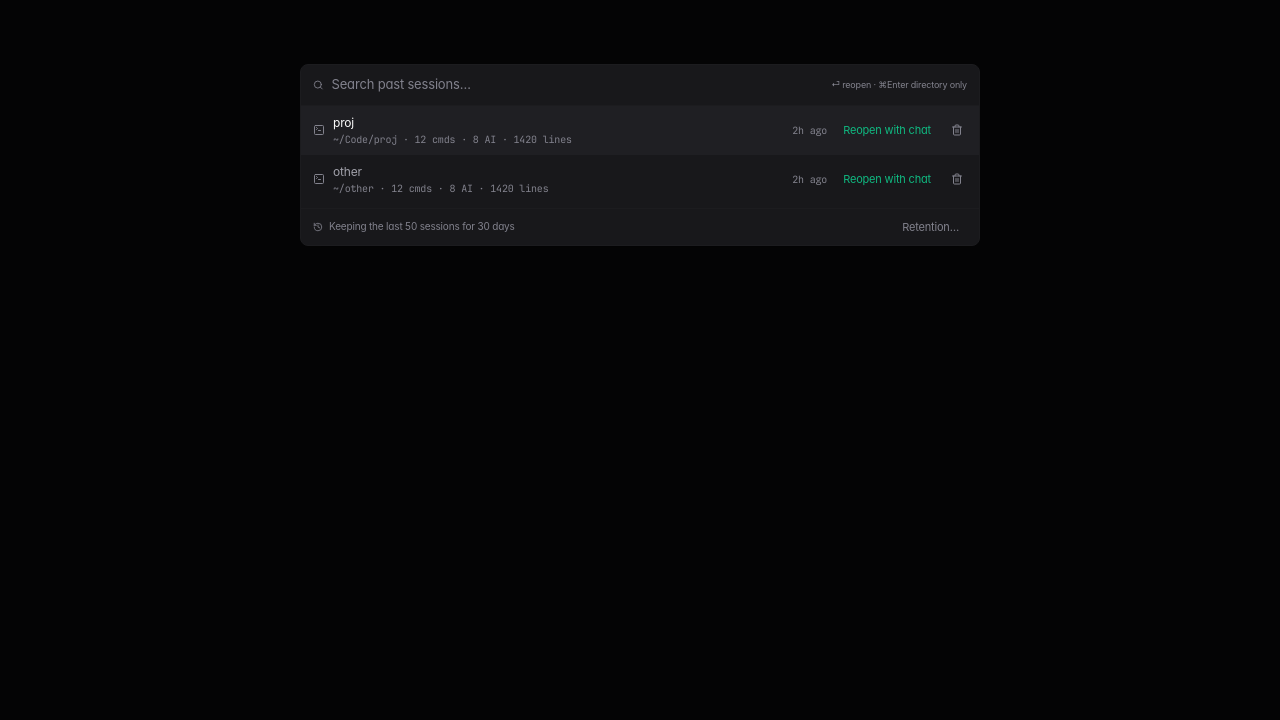
Scenario: SessionBrowser › filters on everything that identifies a session, including the first prompt
Expected: the text "proj" is shown, [333,114,354,130]
// "the session where I asked about the flaky build" is how people remember.
Type "build failing" into the field with placeholder "Search past sessions…" at (577, 85), box [332,65,823,104]
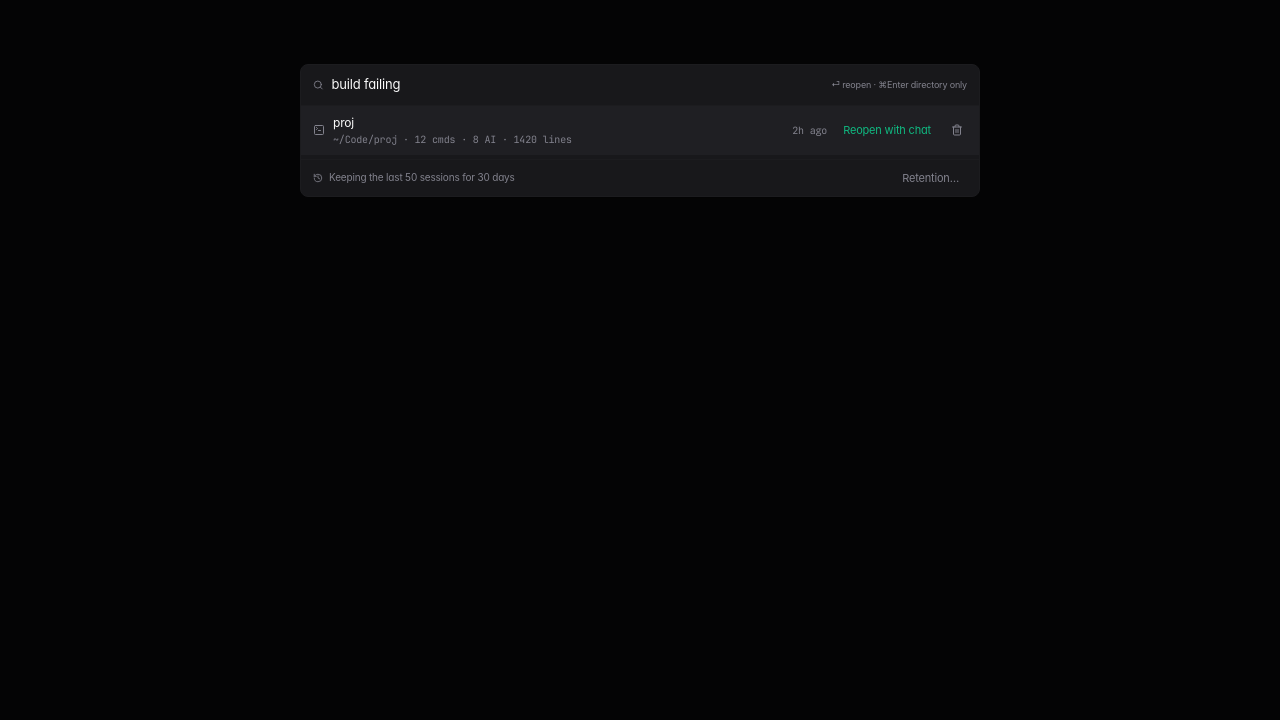
Expected: the text "proj" is shown, [333,114,354,130]
Expected: the button "other" is gone
